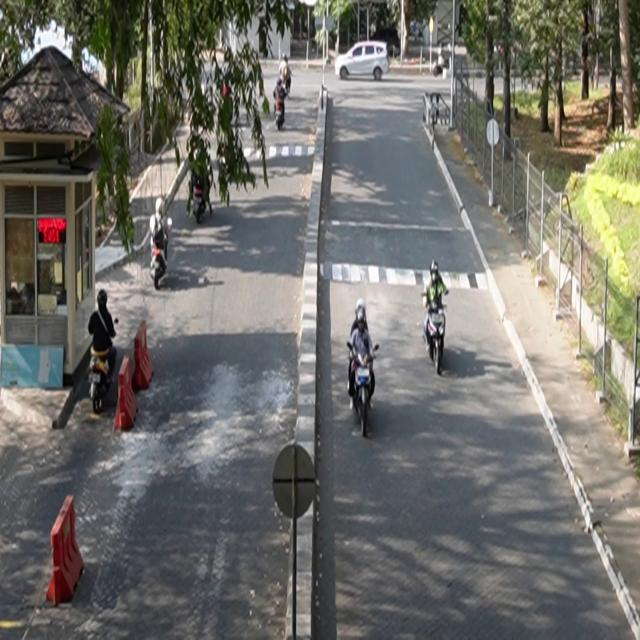car: (335, 41, 391, 82)
